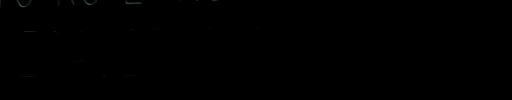letter: (460, 15, 490, 75), (338, 18, 368, 78), (428, 17, 458, 75), (368, 19, 396, 79), (250, 23, 280, 79), (400, 19, 428, 77), (278, 22, 308, 76), (194, 24, 224, 76), (222, 23, 250, 77), (144, 23, 168, 83), (116, 24, 142, 78), (66, 25, 90, 80), (92, 26, 116, 79), (16, 28, 40, 78), (43, 25, 65, 78), (316, 18, 334, 76), (176, 25, 192, 77)
